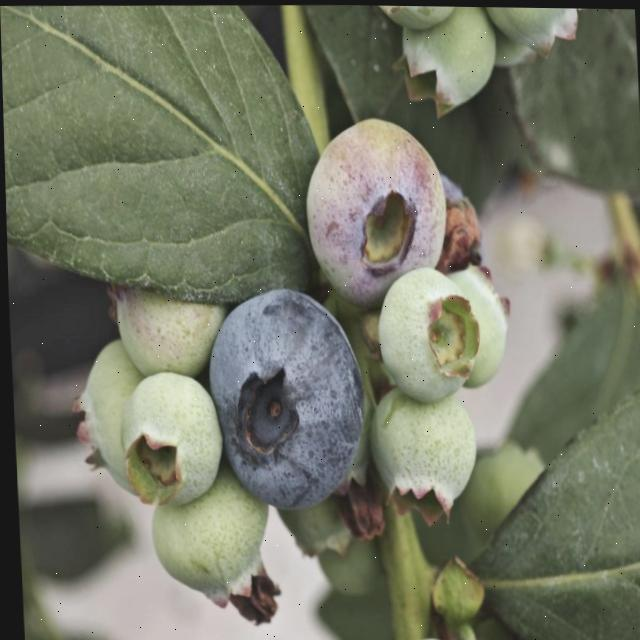RipeBlueBerry: (210, 282, 364, 506)
Semi-RipeBlueBerry: (302, 115, 447, 292)
UnripeBlueBerry: (367, 265, 483, 406), (146, 471, 271, 594), (119, 366, 219, 506), (365, 388, 475, 513), (110, 275, 226, 376)
